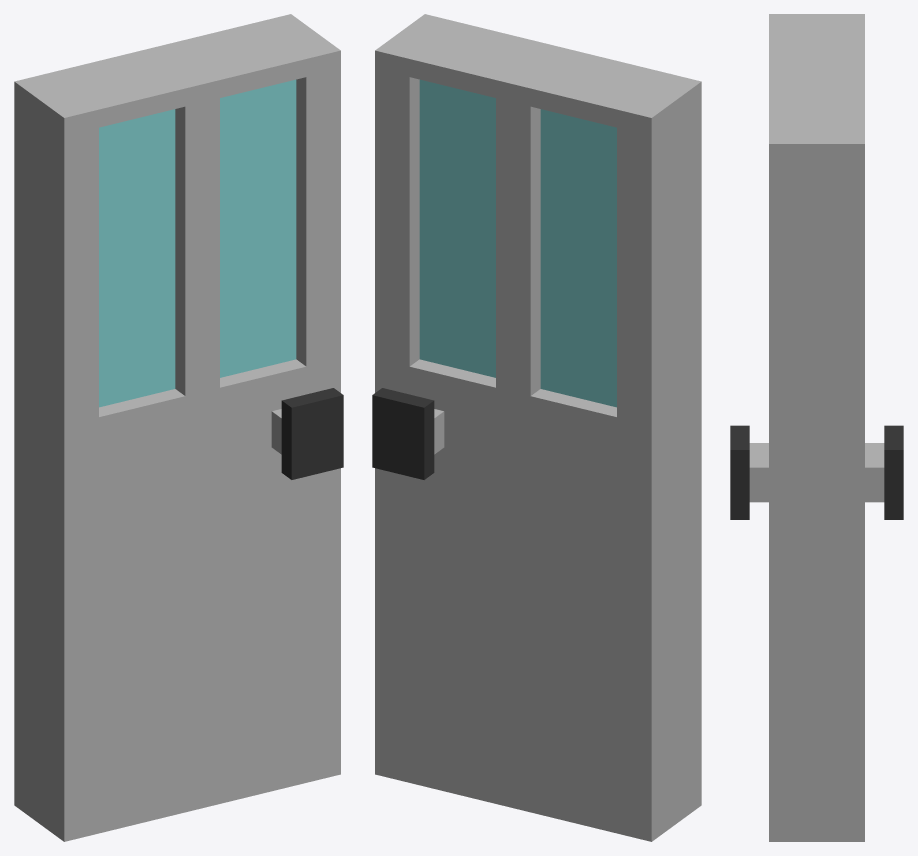
Rendered from door.fbx.
3 renders of one model, left to right at view 1: azimuth 30°, elevation 25°; view 2: azimuth 150°, elevation 25°; view 3: azimuth 270°, elevation 25°, orthographic. The views are drawn at different scales.
Parts seen in each view (by area): view 1: toiletdoor001; view 2: toiletdoor001; view 3: toiletdoor001.
Boxes of the visible parts, <box> form: toiletdoor001: <box>14,14,343,841</box>; toiletdoor001: <box>372,14,701,841</box>; toiletdoor001: <box>730,14,903,841</box>.
Bounding box in the file's own units: 1.6 × 4 × 0.9.
